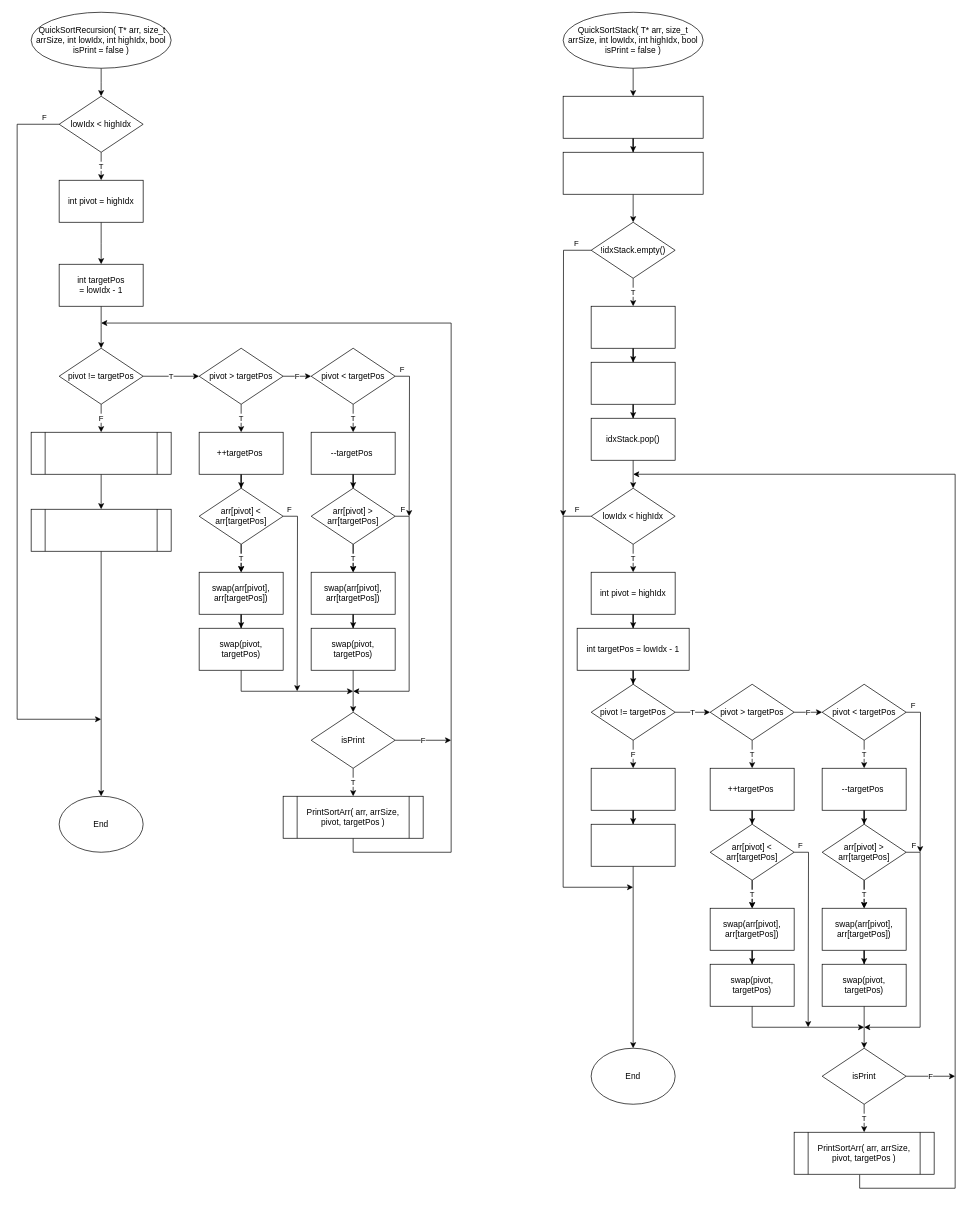
The diagram is 973 pixels wide and 1206 high, and some of its shapes have lost their labels. Each missing label, with the box of its shape:
highIdx = idxStack.top().second: (590, 306, 675, 348)
idxStack.push( { lowIdx, highIdx } ): (562, 152, 703, 194)
idxStack.push( { lowIdx, pivot - 1 } ): (590, 824, 675, 866)
idxStack.push( { pivot + 1, highIdx } ): (590, 768, 675, 810)
lowIdx = idxStack.top().first: (590, 362, 675, 404)
QuickSortRecursion (arr, lowIdx, Pivot - 1): (30, 432, 171, 474)
QuickSortRecursion (arr, Pivot + 1, highIdx): (30, 509, 171, 551)
std::stack<std::pair<int, int>> idxStack: (562, 96, 703, 138)
